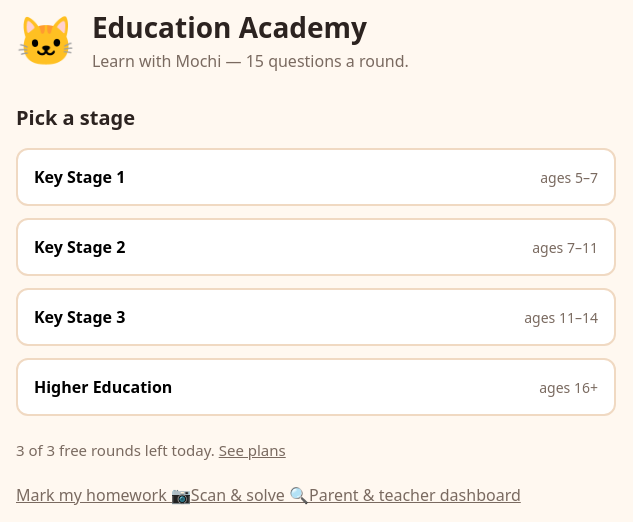
Scenario: dashboard › opens from the stage picker and says when nothing has been played
Step 1. Click the button "Parent & teacher dashboard" → (415, 495), box x1=309 y1=484 x2=521 y2=506
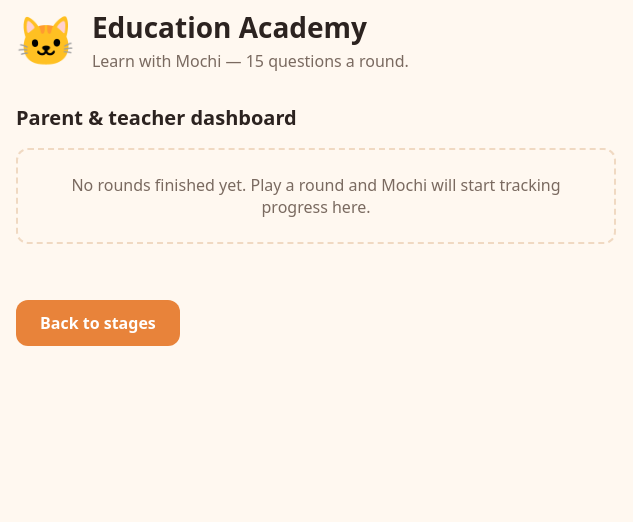
Expected: the heading "Parent & teacher dashboard" is shown, x1=16 y1=104 x2=297 y2=131
Expected: the text "No rounds finished yet" is shown, x1=71 y1=174 x2=560 y2=218
